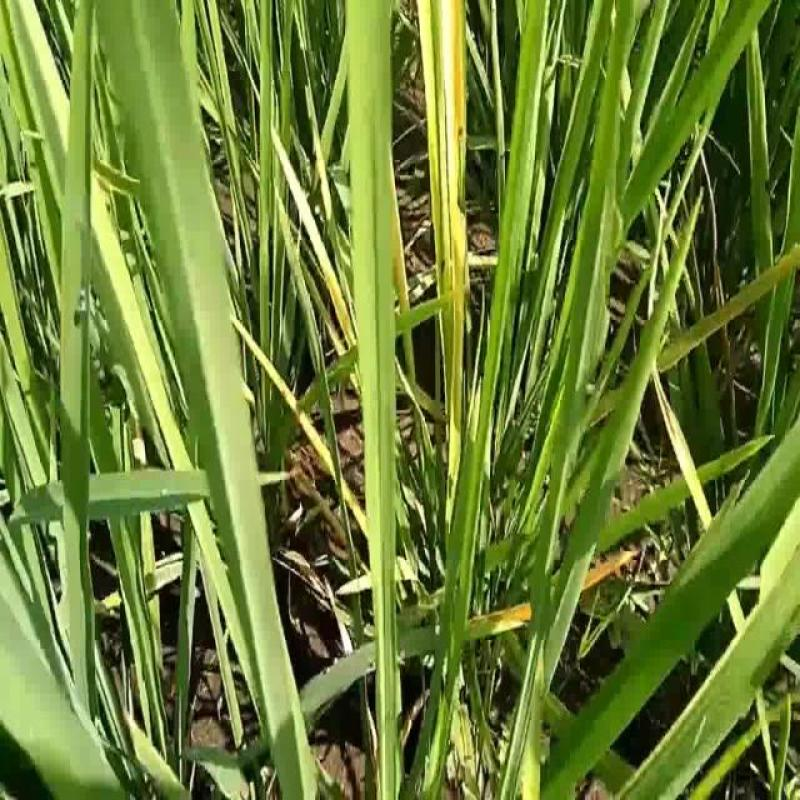Rice Tungro: (266, 118, 354, 353), (436, 1, 474, 294), (416, 4, 449, 290)
